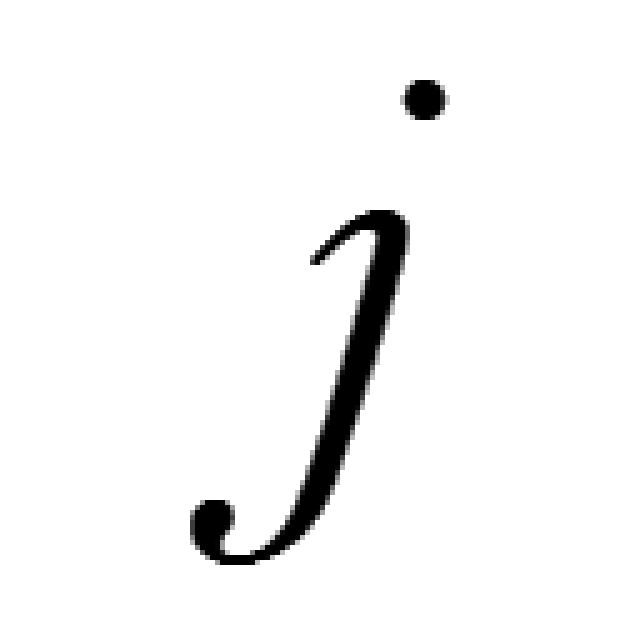J: (180, 73, 450, 570)
